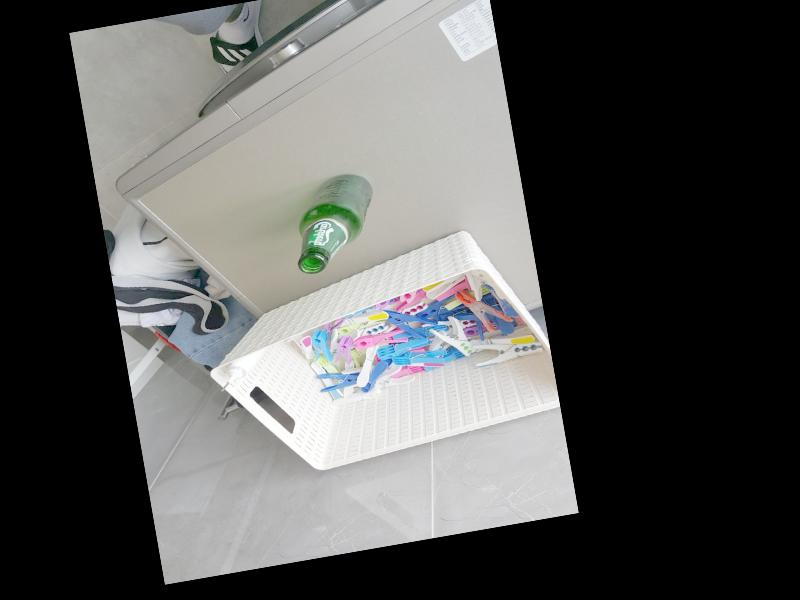Beer: (283, 169, 382, 274)
